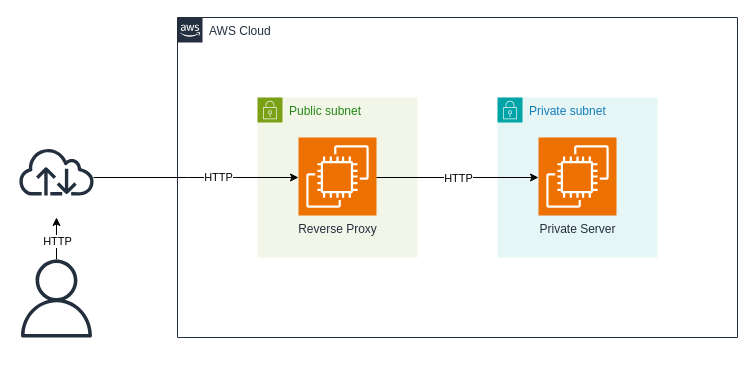
This 755x376 diagram has some shape labels left out. Each missing label, with the centre of its shape:
"Internet" belongs at [56,171].
"User" belongs at [56,298].
